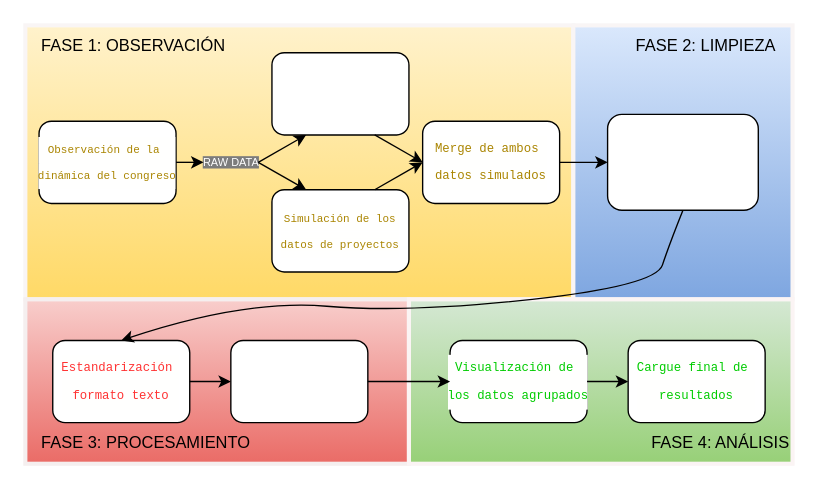
Image size: 818x489. Some labels were removed from this diagram. Here are the shapes that lost their labels. From the top down, the centre of each, then its label:
point (340, 93): Simulación de los datos de congresistas
point (682, 161): Reemplazo de los caracteres incorrectos en nombres
point (298, 381): Mapeo del tipo de las iniciativas
